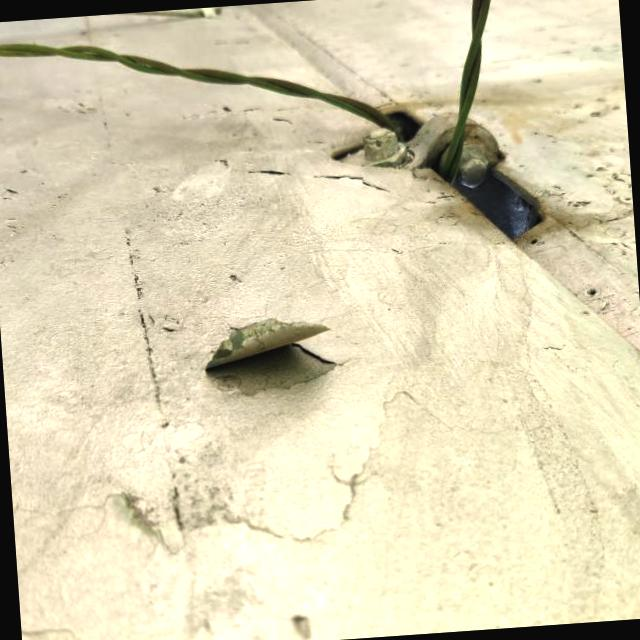paint-off: (186, 292, 353, 416)
